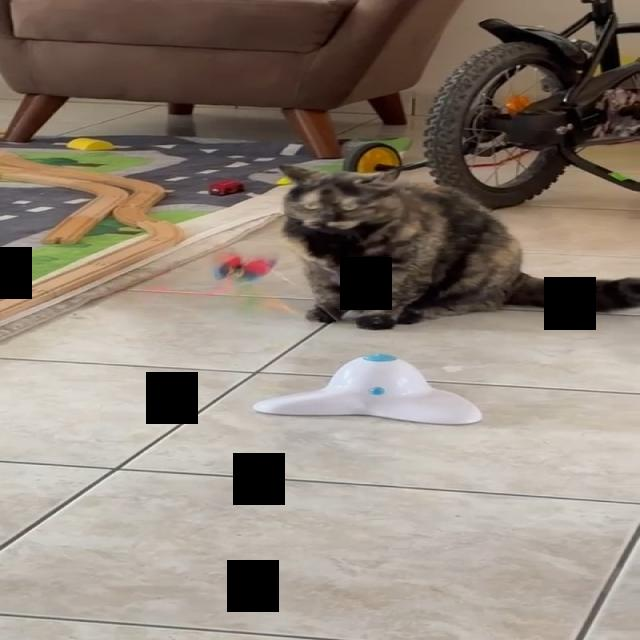authorized: (277, 161, 639, 330)
